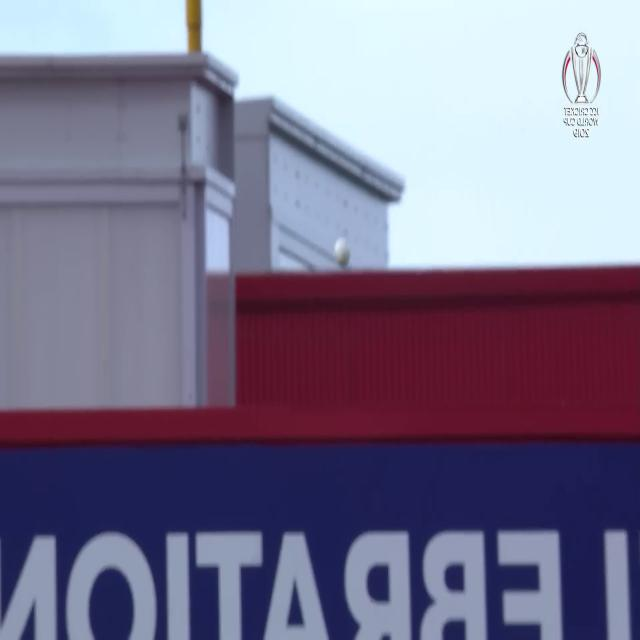ball: (329, 234, 354, 272)
